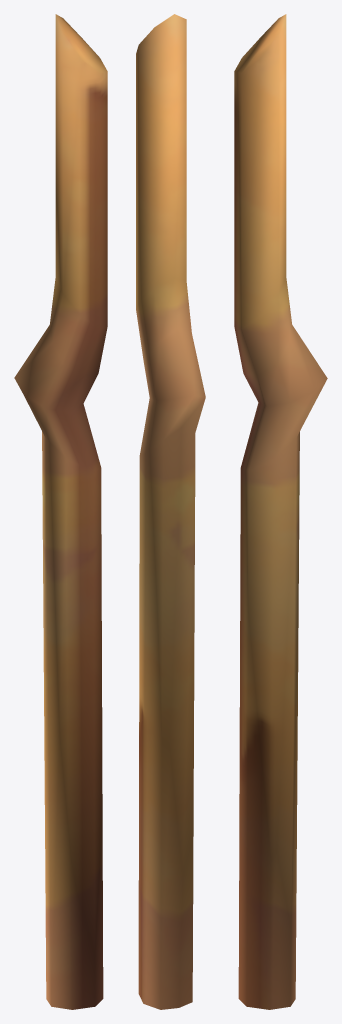
The model's file is SM_Throne_Pipe_Broken.fbx.
The picture shows the model from 3 angles, left to right: view 1: azimuth 90°, elevation 25°; view 2: azimuth 210°, elevation 25°; view 3: azimuth 270°, elevation 25°; orthographic projection.
Visible parts, largest first — view 1: SM_Throne_Pipe_Broken; view 2: SM_Throne_Pipe_Broken; view 3: SM_Throne_Pipe_Broken.
Boxes of the visible parts, bbox=[...] form: SM_Throne_Pipe_Broken: bbox=[14, 14, 107, 1009]; SM_Throne_Pipe_Broken: bbox=[136, 14, 205, 1009]; SM_Throne_Pipe_Broken: bbox=[234, 14, 327, 1009].
Size of the model in its own units: 0.1787 by 3.74 by 0.321.
Materials: 1 (1 with a texture image).
